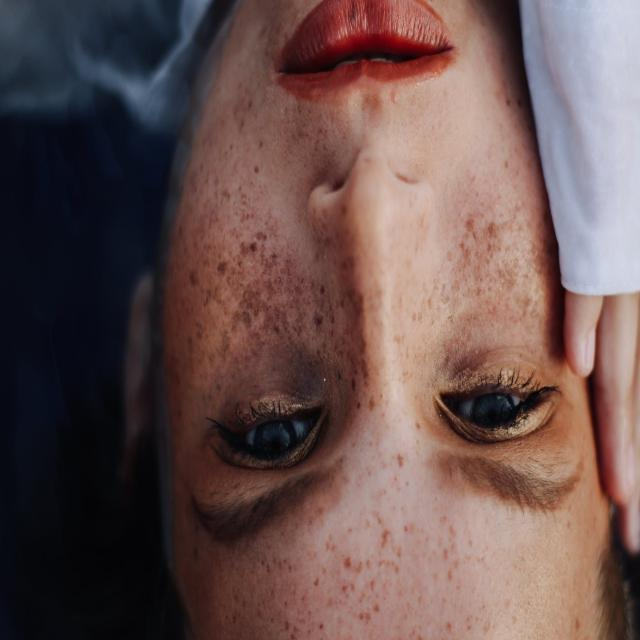Dark-Spots: (174, 90, 415, 502), (170, 511, 516, 640), (421, 133, 558, 372)
